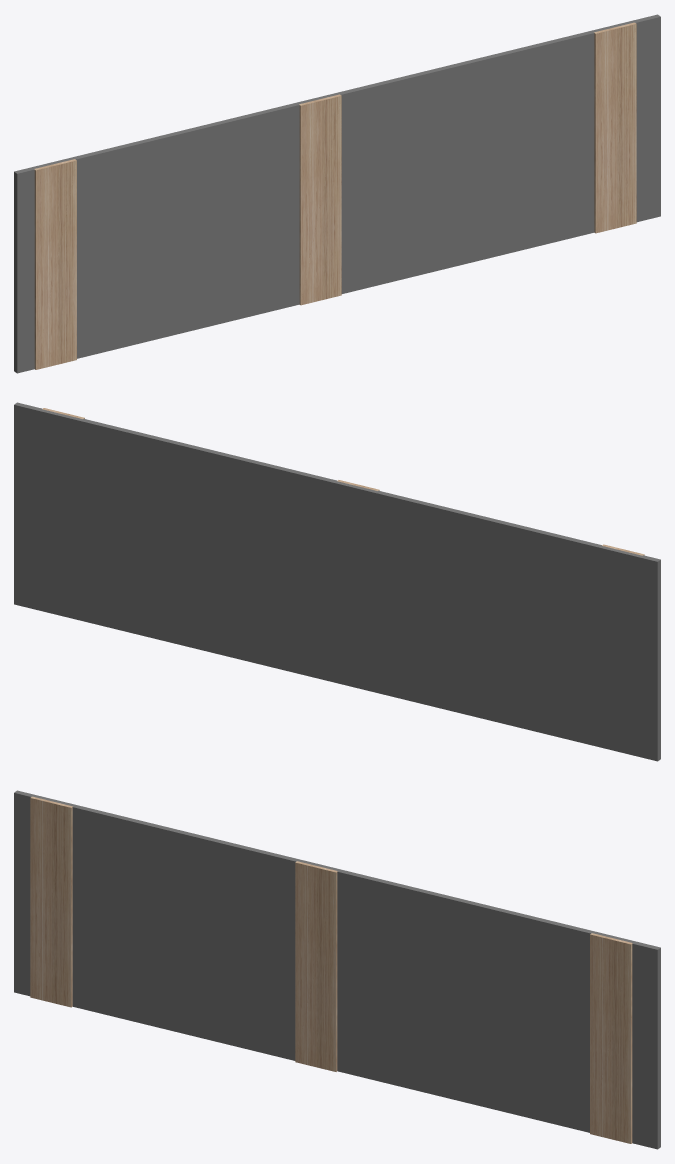
File: Wall 1.fbx
3 renders of one model, top to bottom at view 1: azimuth 30°, elevation 25°; view 2: azimuth 150°, elevation 25°; view 3: azimuth 330°, elevation 25°, orthographic.
Visible parts, largest first — view 1: wall 1; view 2: wall 1; view 3: wall 1.
Boxes of the visible parts, box(x1,y1,x2,y2) form: wall 1: box(14, 14, 660, 373); wall 1: box(14, 402, 660, 761); wall 1: box(14, 790, 660, 1149).
Bounding box in the file's own units: 1023 × 303 × 11.98.
2 materials, 1 textured.
